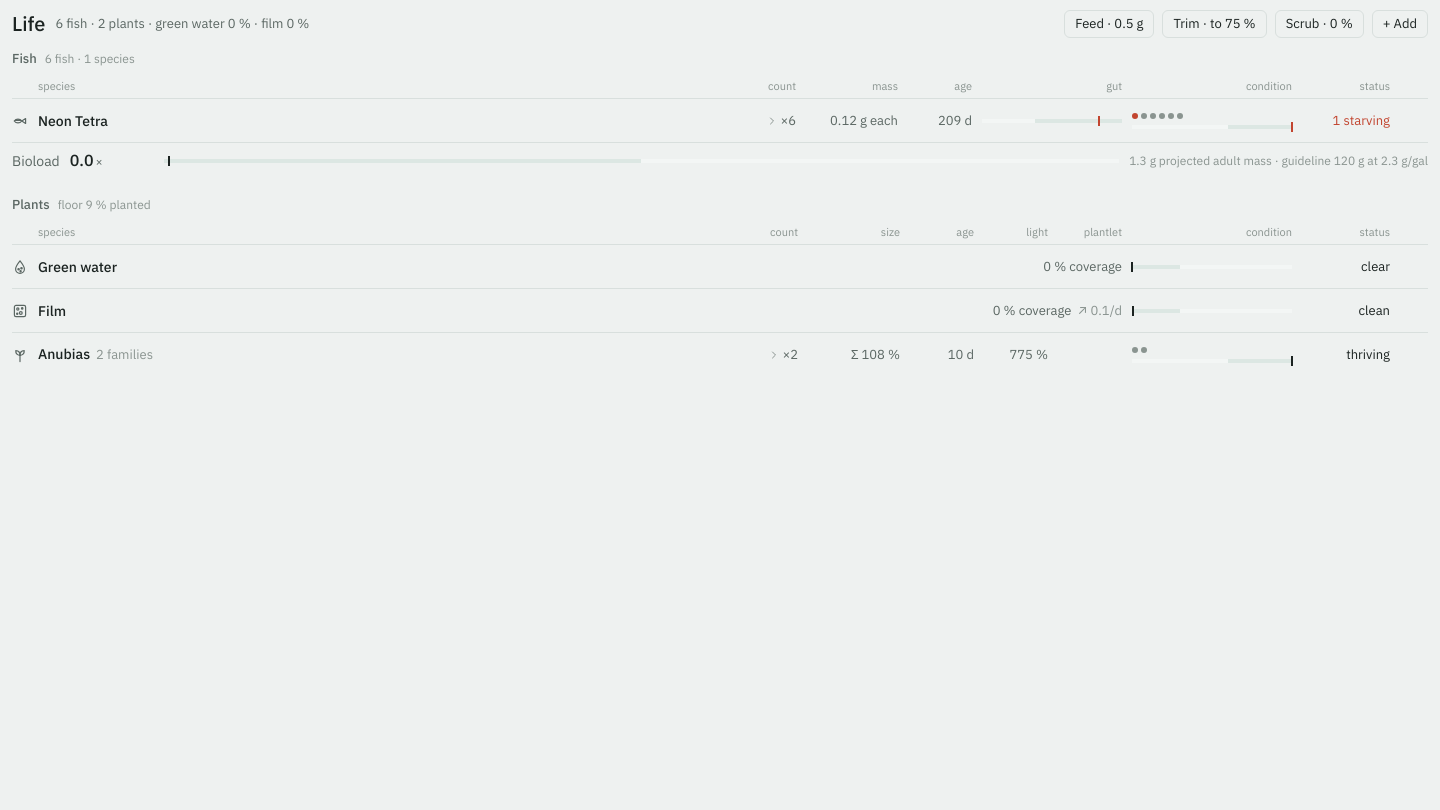
LifeSection › names the engine’s own factors in the ledger of a hungry fish
Click the button named "Neon Tetra — 6, 1 starving" at point(720, 120), box top-left (12, 99), bottom-right (1428, 142)
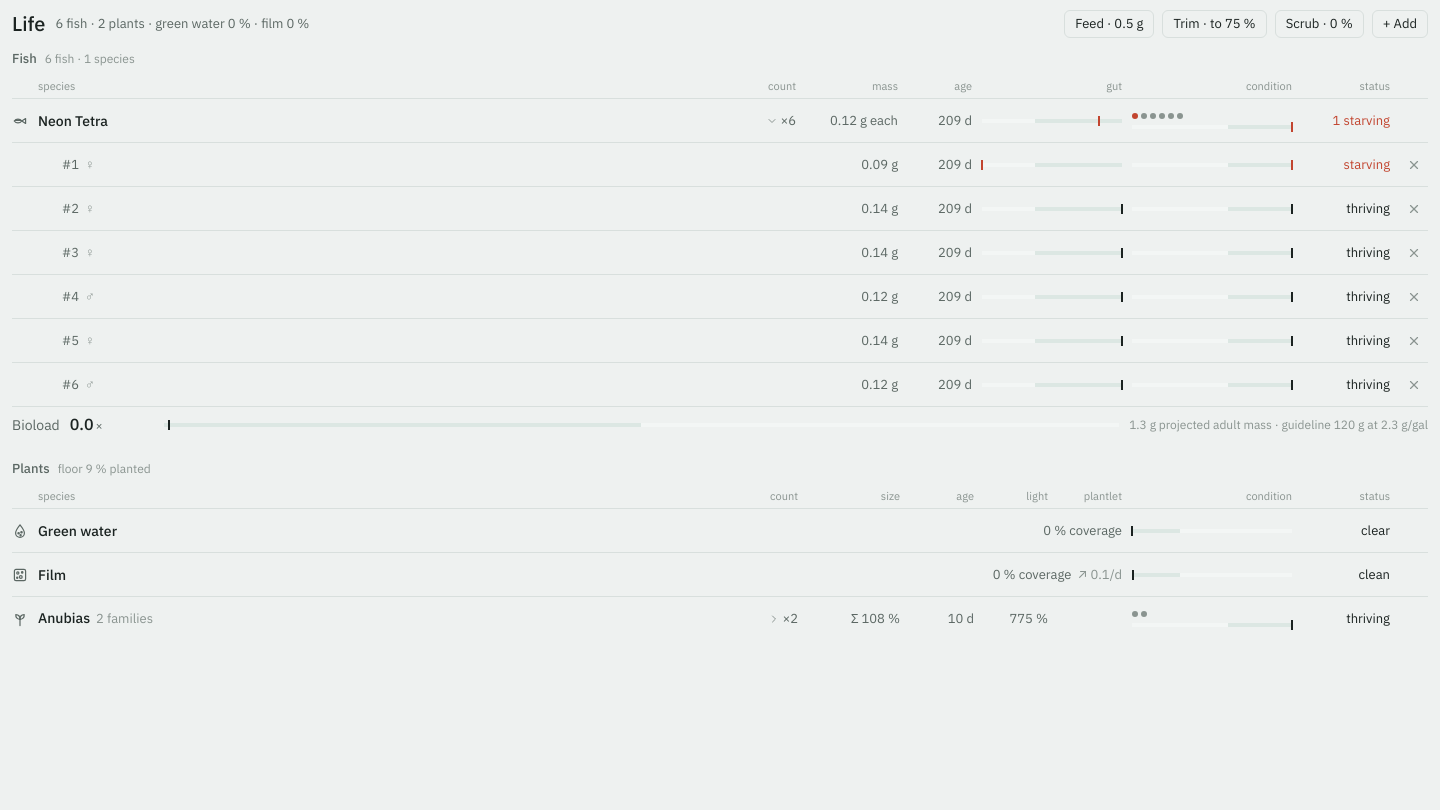
Click the button named "Neon Tetra #1 — starving" at point(720, 164), box top-left (12, 143), bottom-right (1428, 186)
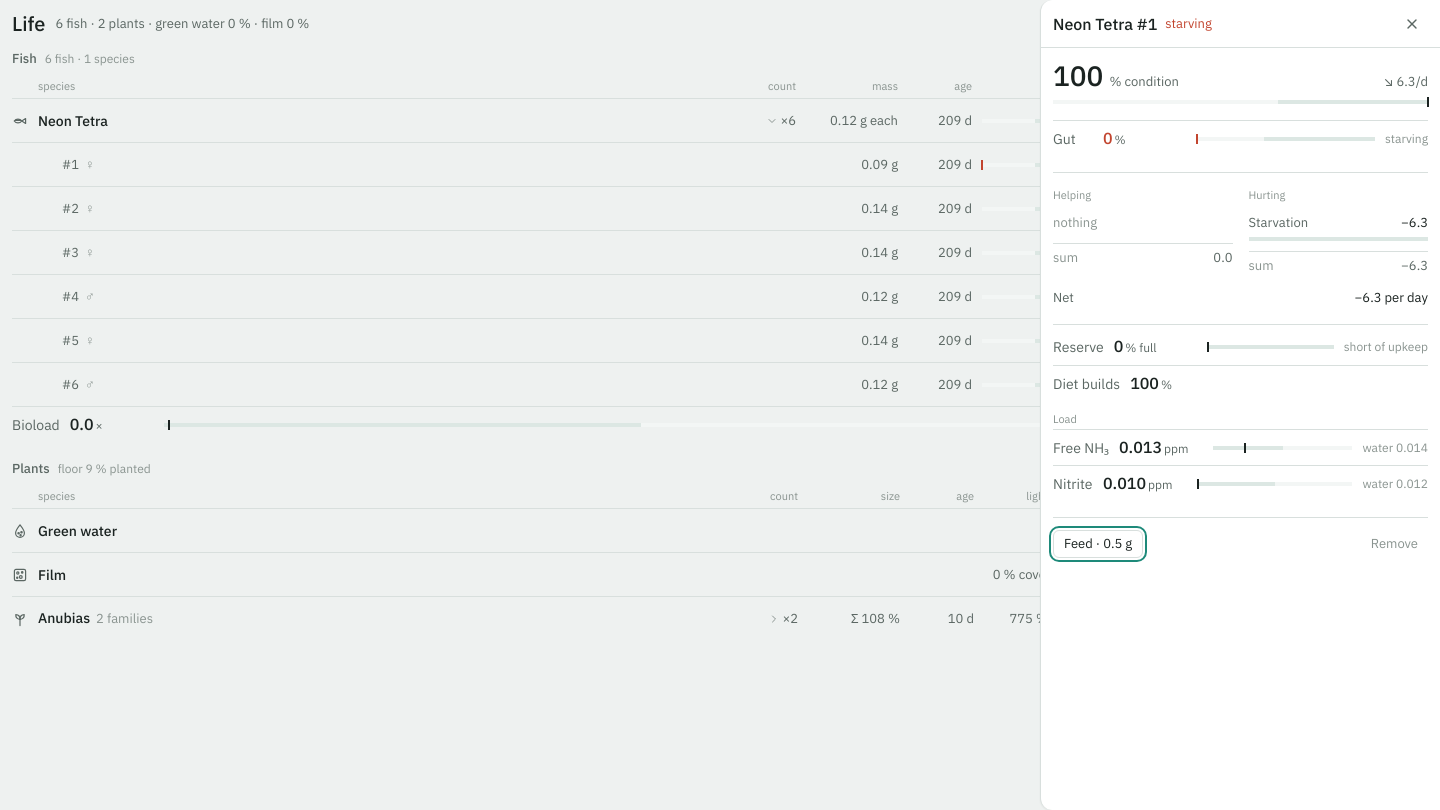
expect the heading "Helping" is shown: met, box top-left (1053, 188), bottom-right (1091, 202)
expect the heading "Hurting" is shown: met, box top-left (1248, 188), bottom-right (1285, 202)
expect the text "−6.3 per day" is shown: met, box top-left (1355, 288), bottom-right (1428, 308)
